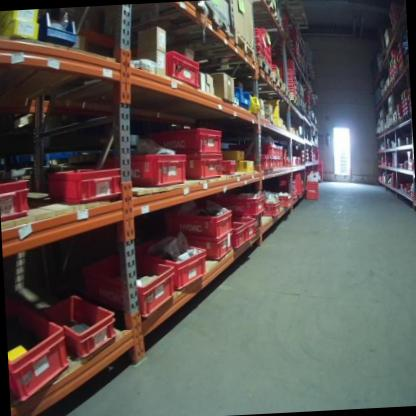pallet: (125, 3, 237, 48), (150, 30, 259, 71), (228, 55, 275, 86), (241, 72, 284, 97), (255, 82, 292, 104), (246, 0, 278, 16), (272, 93, 299, 111), (400, 112, 410, 126), (391, 120, 398, 131), (397, 115, 403, 127)
small_load_carrier: (80, 248, 176, 323), (6, 296, 71, 406), (37, 291, 121, 358), (130, 236, 210, 294), (45, 161, 128, 210), (103, 151, 190, 194), (163, 206, 233, 237), (150, 127, 225, 155), (161, 49, 203, 90), (182, 233, 235, 265), (0, 176, 33, 223), (213, 192, 268, 218), (183, 153, 227, 182), (235, 216, 258, 245), (228, 220, 247, 252), (261, 195, 283, 221), (242, 141, 275, 157), (242, 154, 270, 172), (307, 175, 321, 202), (293, 170, 306, 198), (220, 158, 238, 178), (276, 176, 297, 187), (278, 191, 290, 208), (267, 158, 274, 174), (287, 185, 300, 192), (291, 194, 299, 200)
